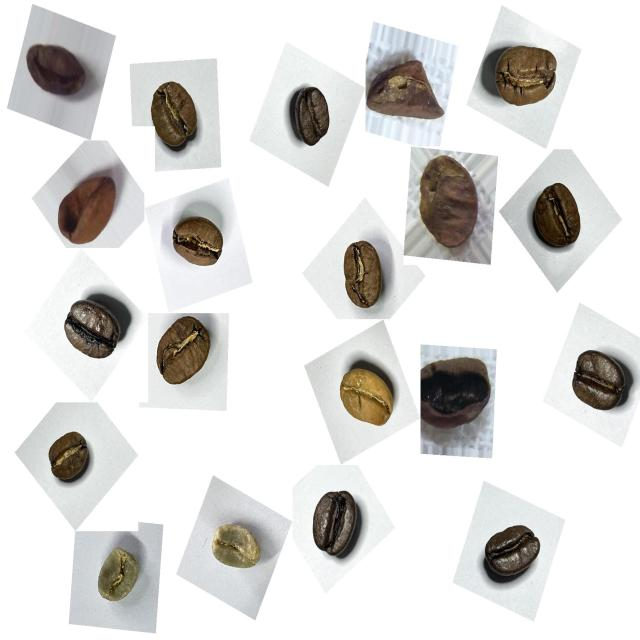bad: (402, 146, 487, 266), (413, 343, 497, 442), (363, 41, 448, 134), (48, 158, 125, 257), (21, 31, 96, 111)
dark: (50, 288, 131, 379), (473, 510, 549, 598), (277, 76, 340, 159)
green: (200, 509, 270, 583), (86, 538, 150, 616)
light: (323, 350, 404, 438)
medium: (486, 37, 565, 122), (147, 309, 222, 398), (524, 172, 596, 260), (560, 342, 636, 425), (140, 73, 212, 159), (302, 480, 374, 566), (329, 232, 396, 322), (165, 207, 235, 280), (40, 422, 99, 493)
